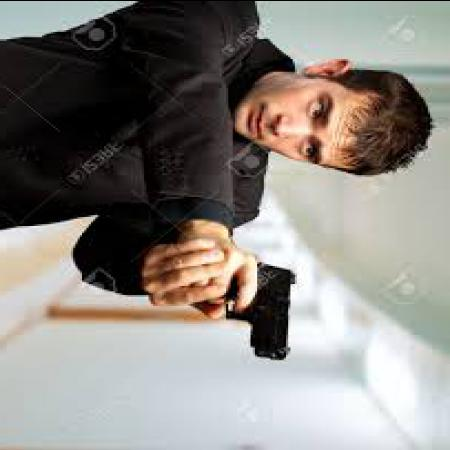Pistol: (220, 261, 304, 365)
